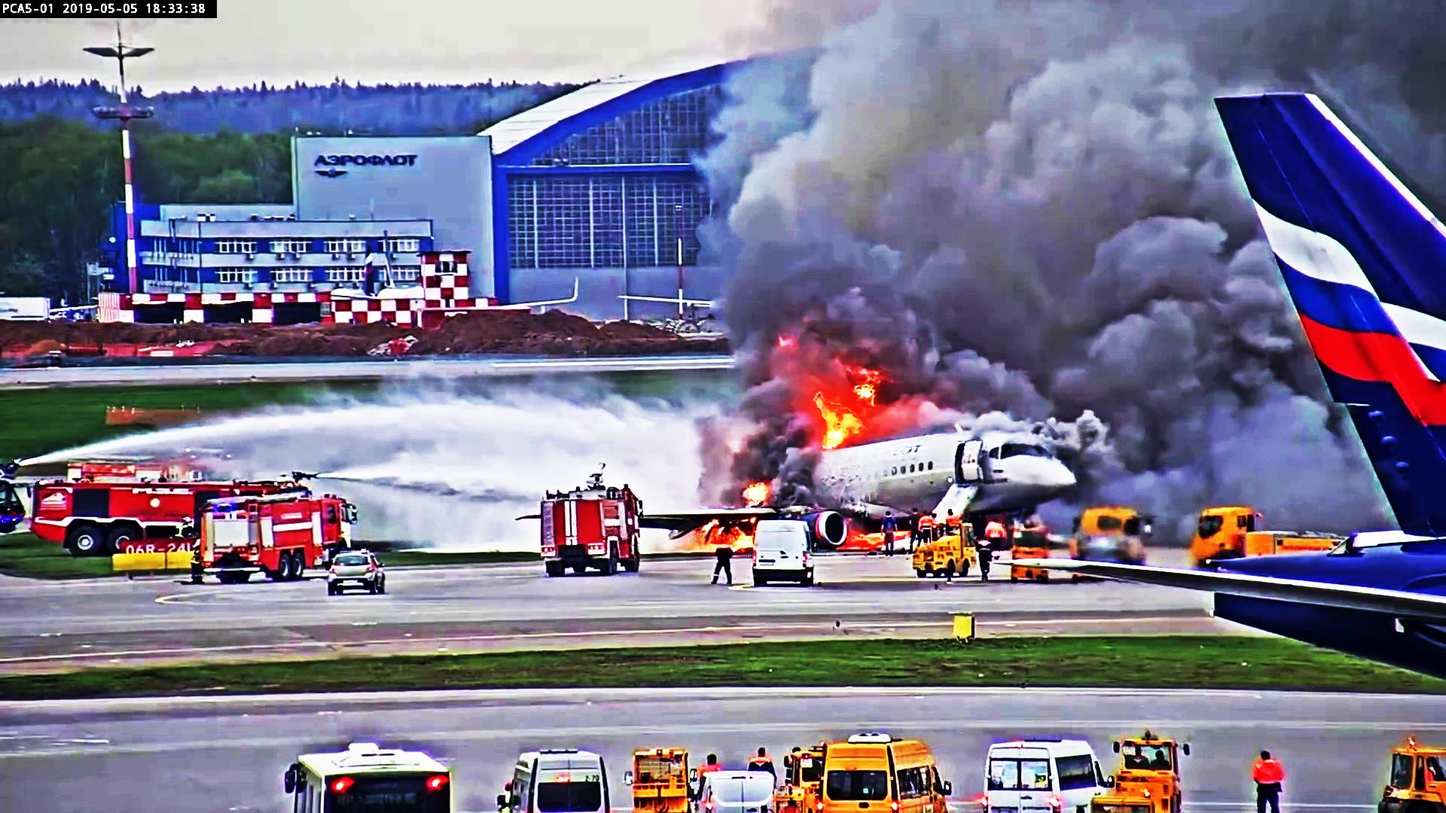fire: (818, 365, 879, 448)
smoke: (995, 43, 1254, 446)
